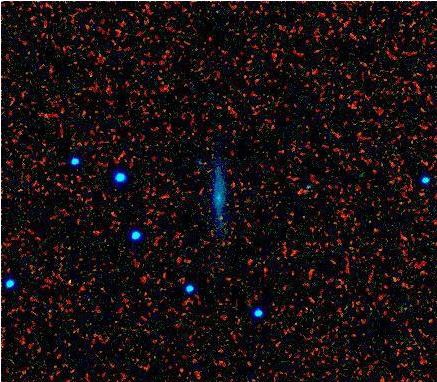star: (206, 202, 236, 232)
